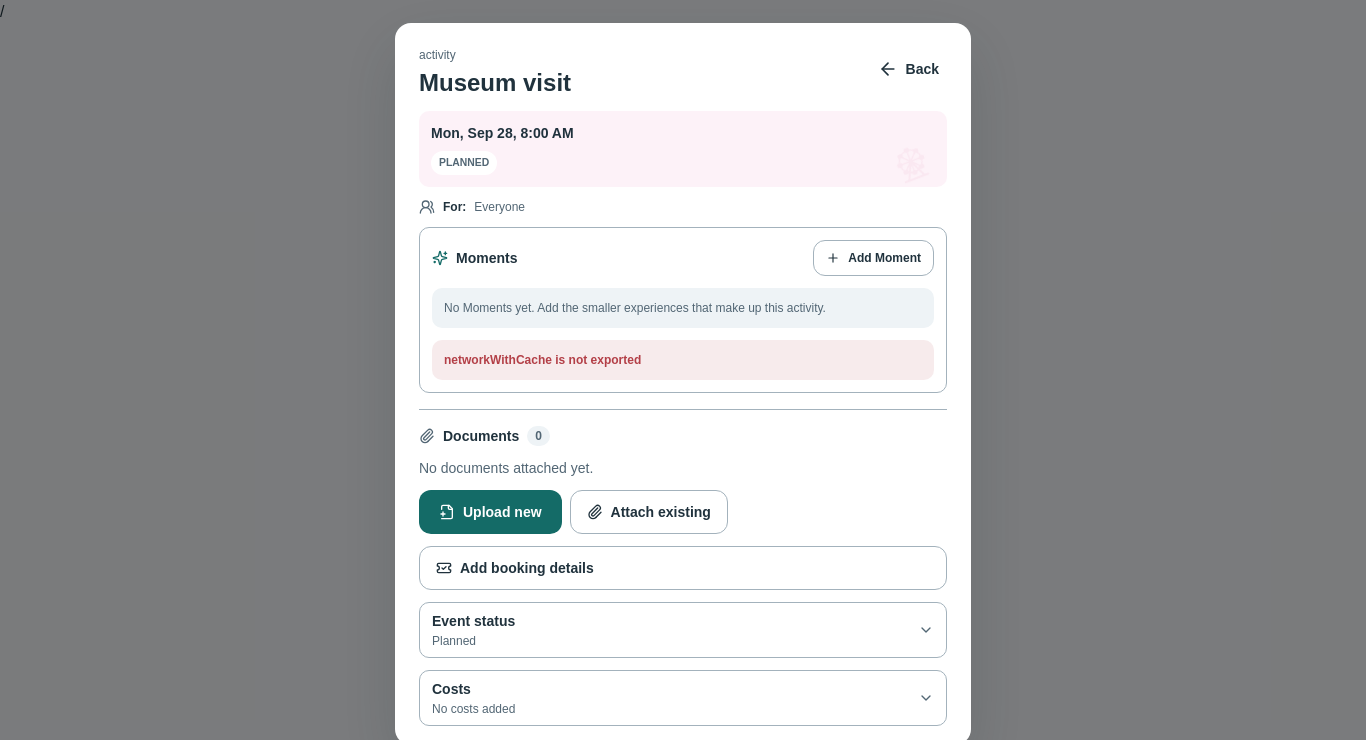
it: event status saving › disables all choices and shows progress until the request finishes
Expected: the button "done" is not shown
Step 1. Click the button "Event status Planned" → (474, 621), box [420,603,946,657]
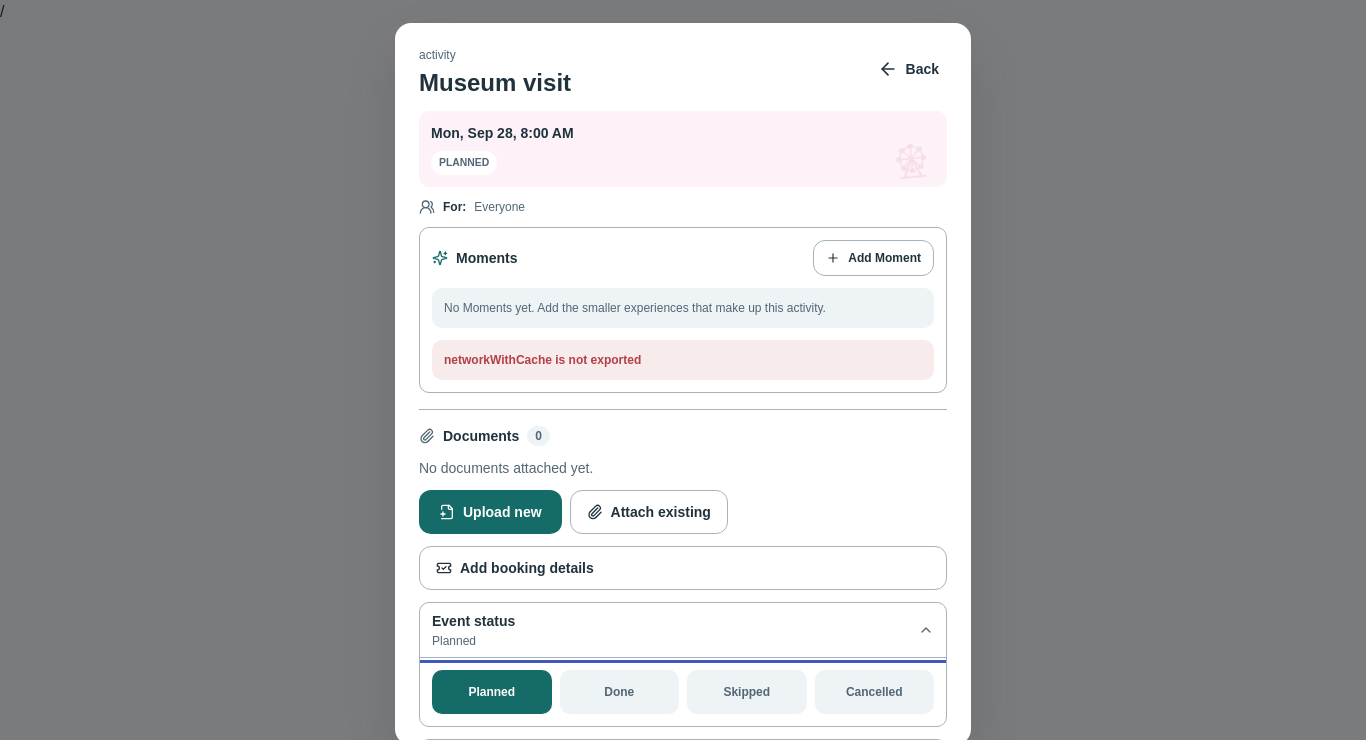
Step 2. Click the button "planned" → (492, 692), box [432,670,552,714]
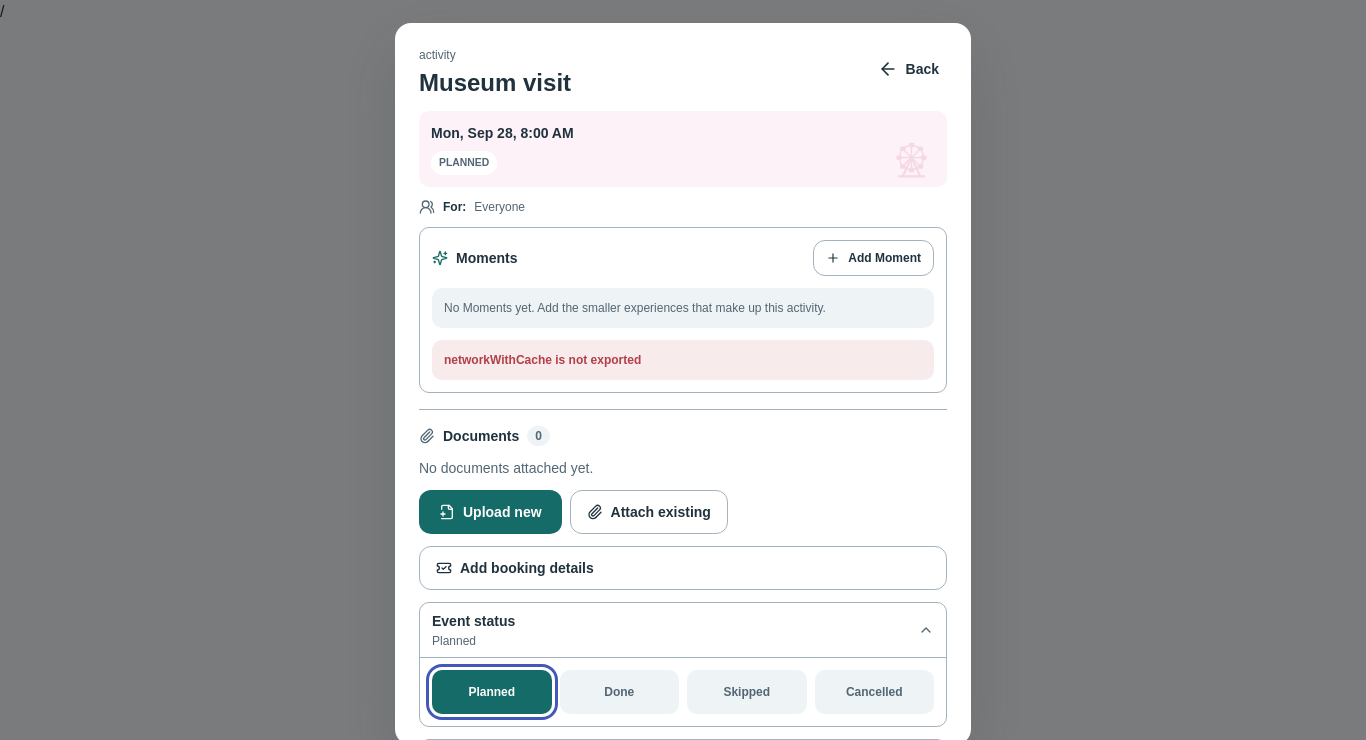
Step 3. Click the button "done" → (619, 692), box [560,670,679,714]
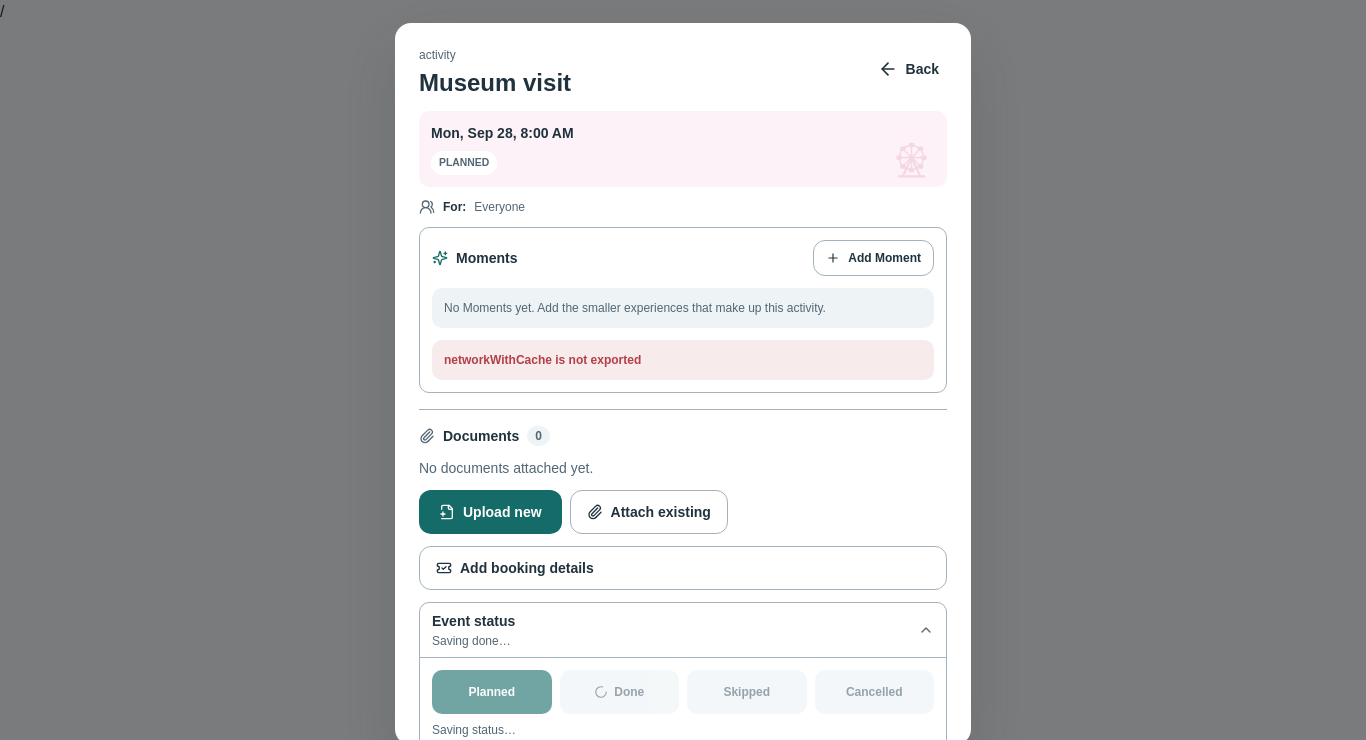
Expected: the message "Saving status…" is shown, [432,723,516,737]
Expected: the button "planned" is disabled, [432,670,552,714]
Expected: the button "done" is disabled, [560,670,679,714]
Step 4. Click the button "skipped" → (747, 692), box [687,670,806,714]
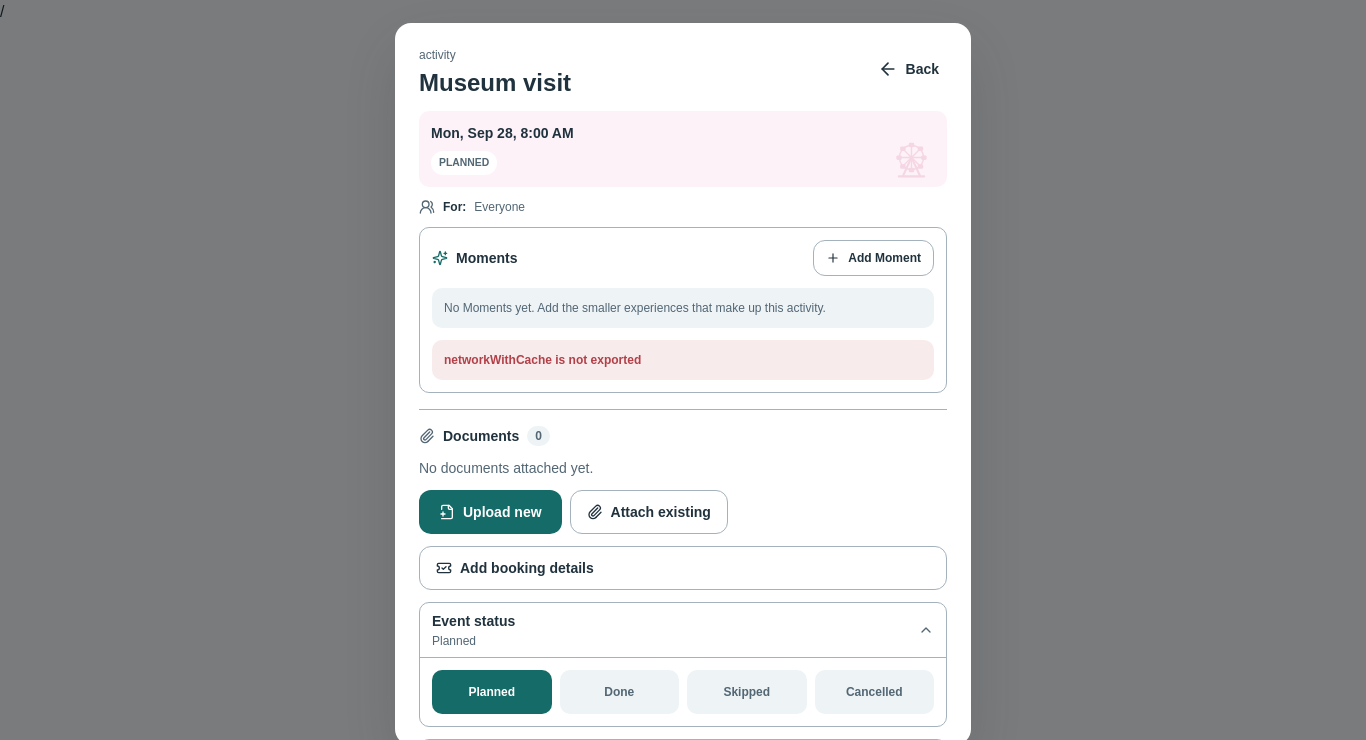
Expected: the message "Saving status…" is gone
Expected: the button "done" is enabled, [560,670,679,714]
